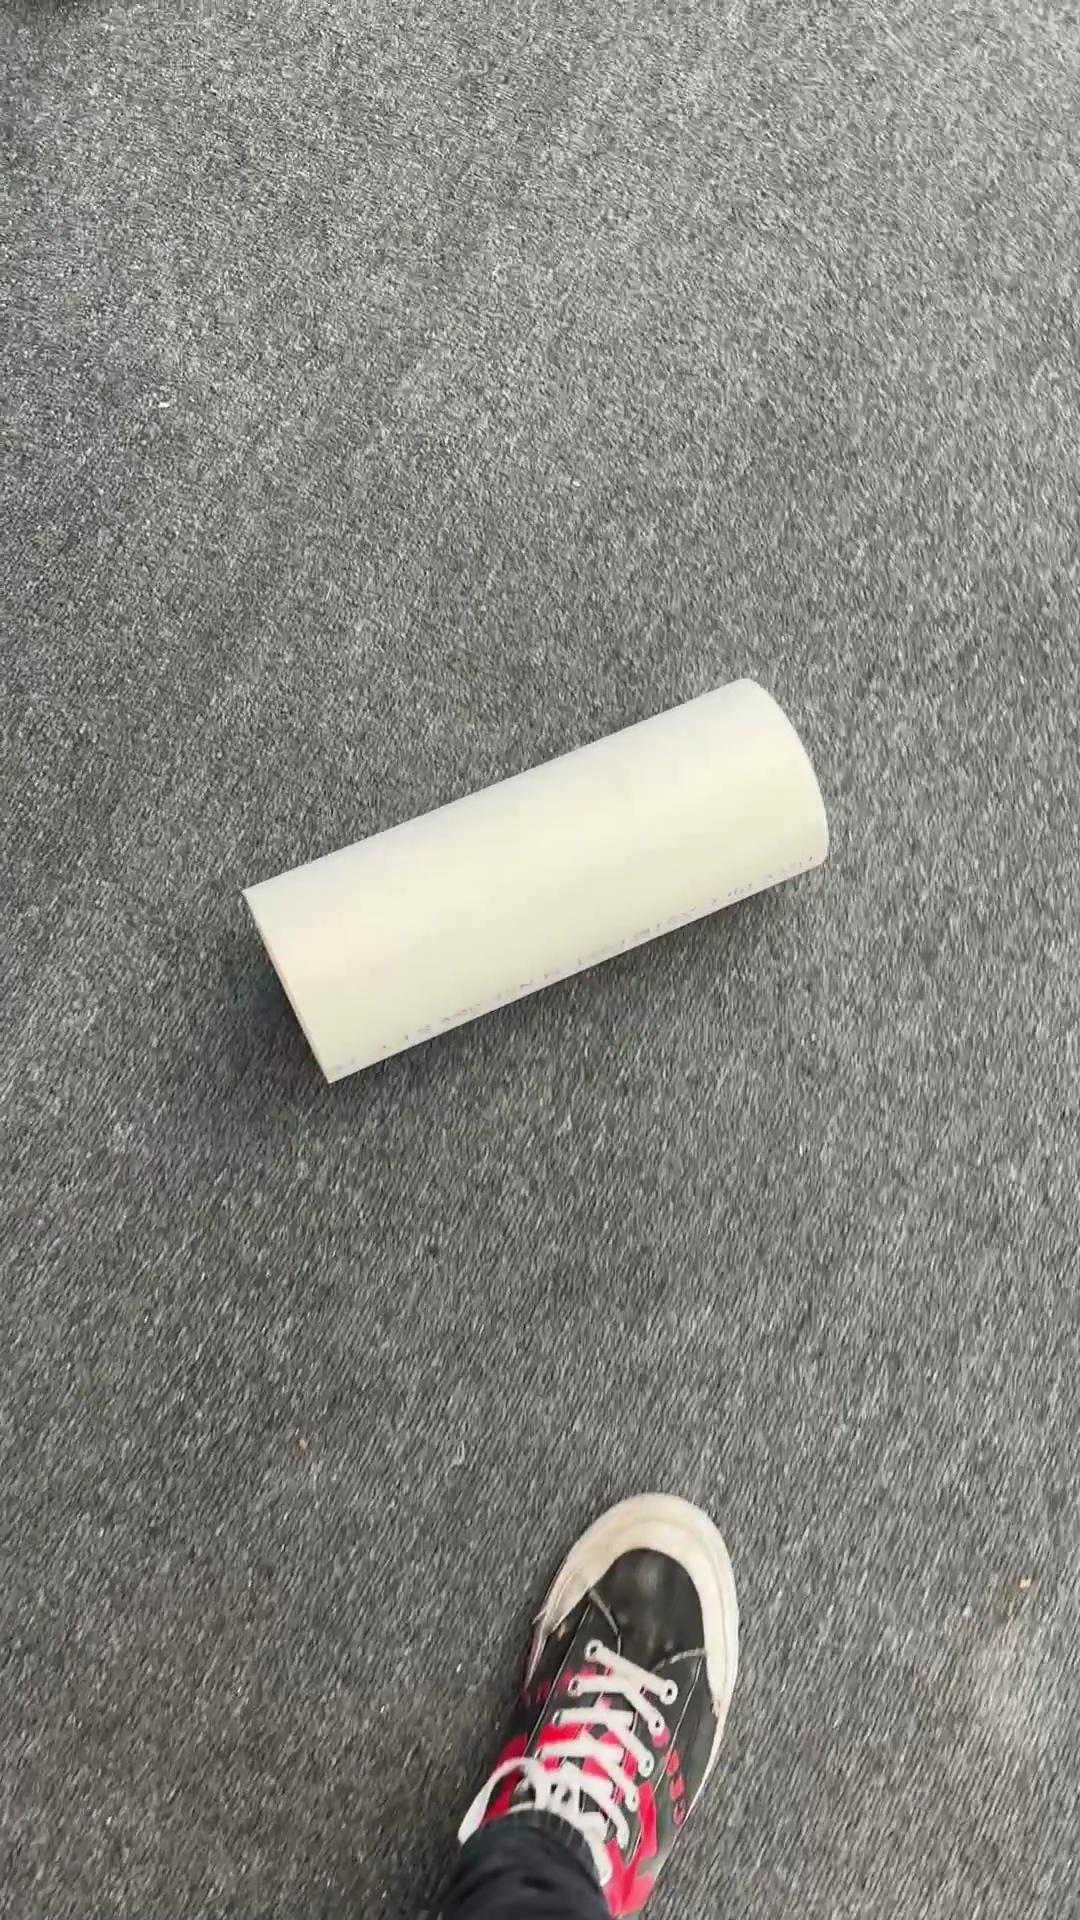CORAL: (237, 673, 831, 1087)
